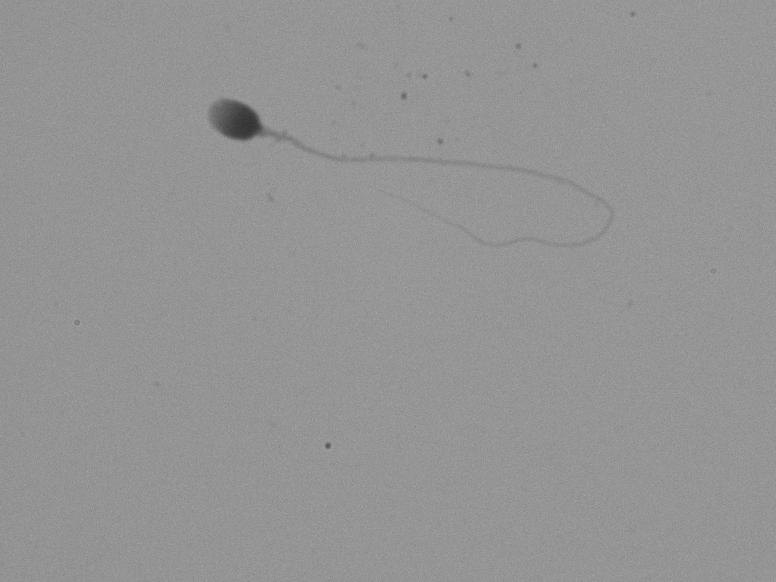Normal: (147, 51, 609, 274)
